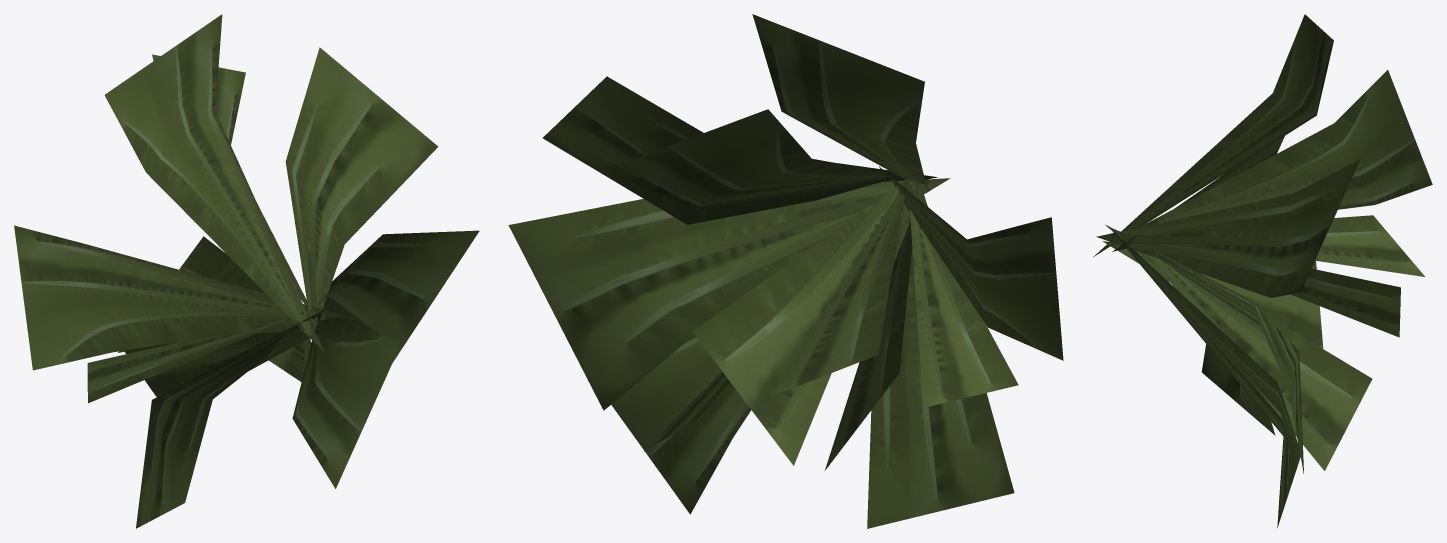
File: UC_Grass_01.fbx
The picture shows the model from 3 angles, left to right: view 1: azimuth 30°, elevation 25°; view 2: azimuth 150°, elevation 25°; view 3: azimuth 270°, elevation 25°; orthographic projection. The views are drawn at different scales.
Visible parts, largest first — view 1: UC_Grass_01_01; view 2: UC_Grass_01_01; view 3: UC_Grass_01_01.
Boxes of the visible parts, bbox=[...] form: UC_Grass_01_01: bbox=[14, 14, 479, 528]; UC_Grass_01_01: bbox=[508, 14, 1063, 528]; UC_Grass_01_01: bbox=[1093, 14, 1432, 527].
Size of the model in its own units: 2.16 by 2.09 by 1.44.
